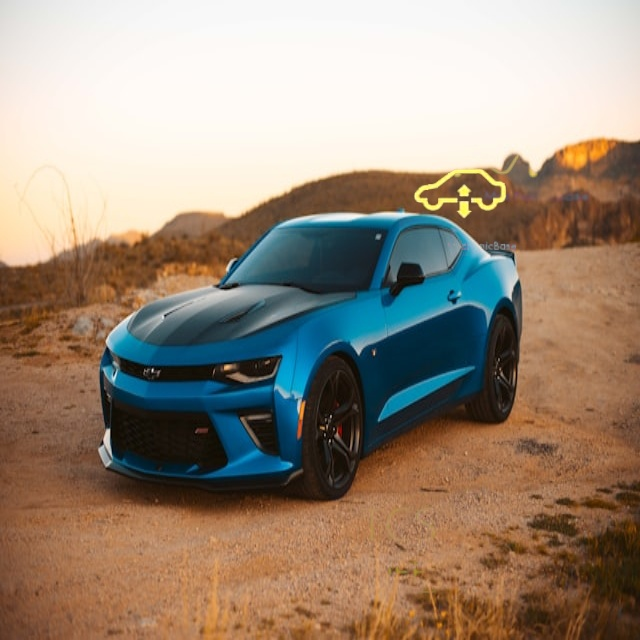symbol: (410, 24, 597, 211), (330, 482, 469, 621), (399, 134, 521, 256)
